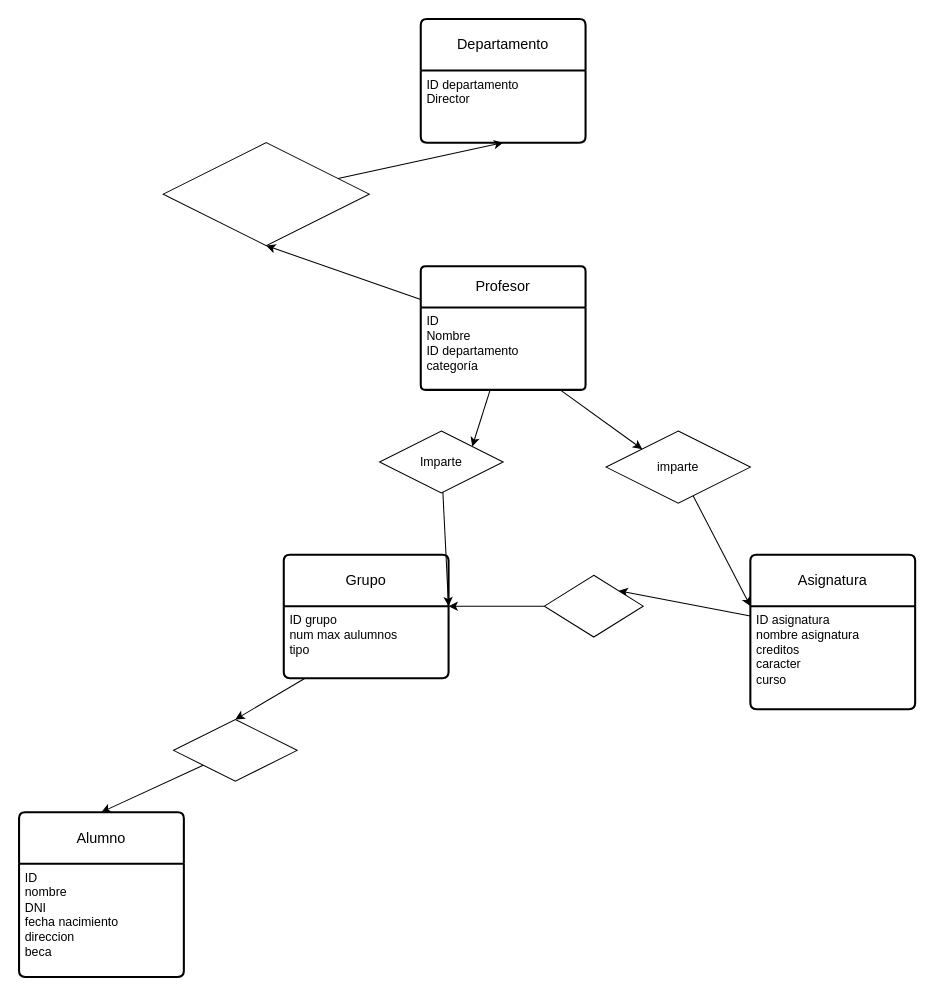
The diagram is 933 pixels wide and 995 high, and some of its shapes have lost their labels. The centre of each missing label's shape, as x and y in pixels:
"esta formado" belongs at point 593,605.
"Matricula" belongs at point 235,749.
"Pertenece ------------------- Director" belongs at point 265,194.
